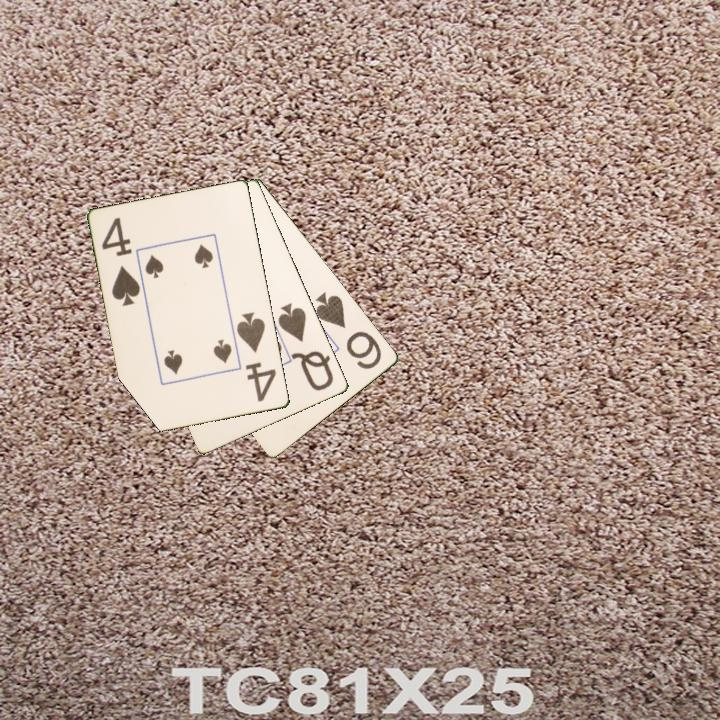4s: (233, 308, 279, 405), (98, 214, 143, 309)
6s: (312, 288, 385, 372)
Qs: (275, 299, 337, 394)
